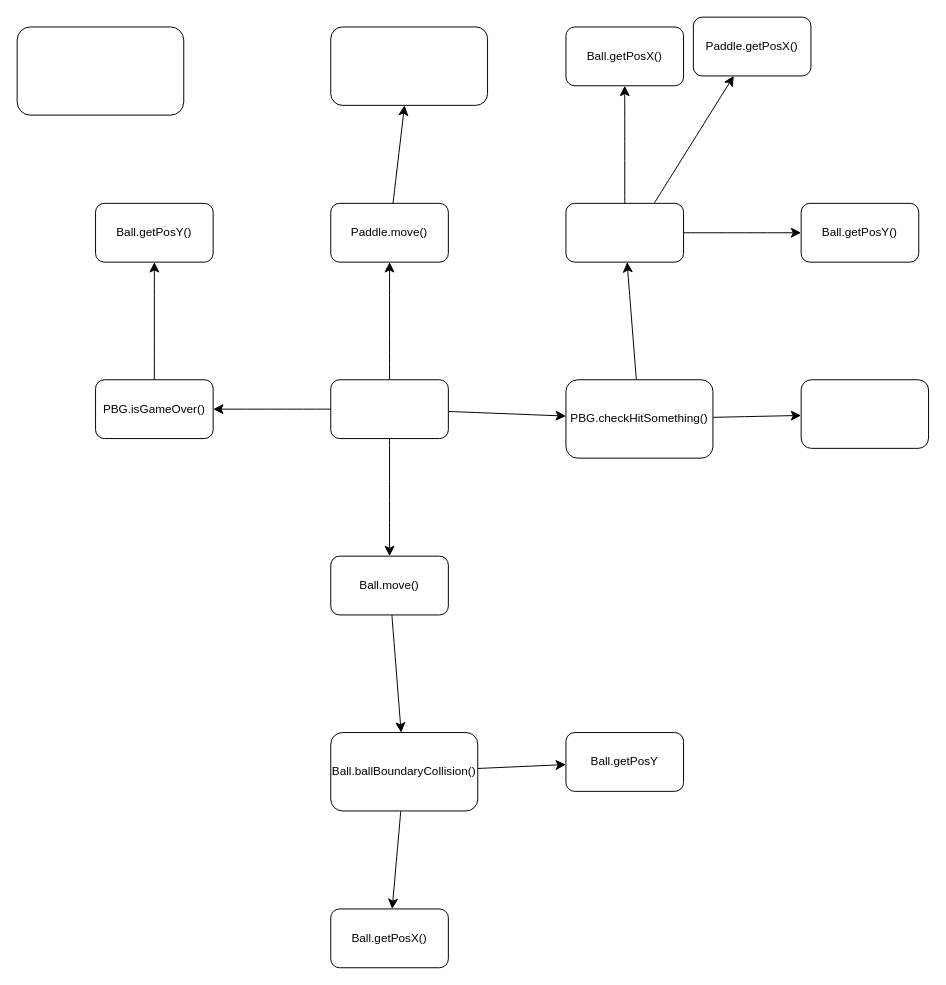
Image size: 946x985. Some labels were removed from this diagram. Each missing label, with the box of its shape:
Ball.bounceOffPaddle(): (800, 379, 929, 448)
Ball.collided(): (565, 202, 684, 262)
Paddle.handleBoundary(): (330, 26, 488, 105)
PBG.update(): (330, 379, 448, 439)
PBG=PaddleBallGame R=Rectangle: (16, 26, 184, 115)
